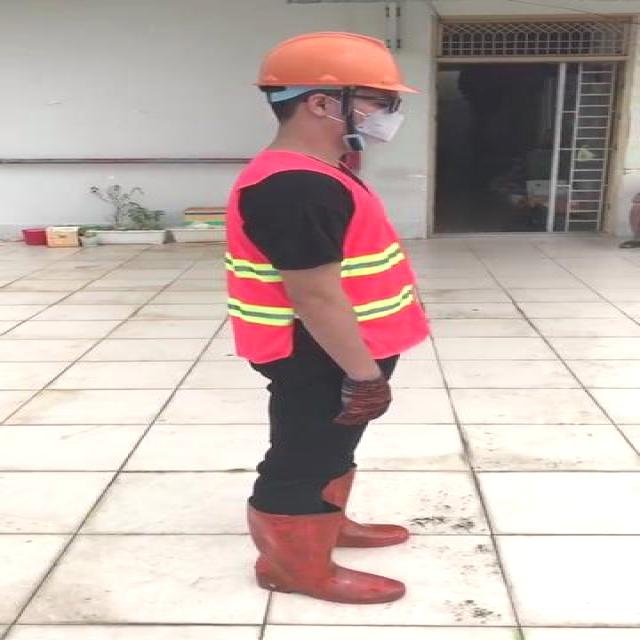boots: (245, 501, 406, 606), (324, 469, 411, 548)
face_mask: (336, 86, 420, 148)
hand_glove: (334, 378, 395, 427)
head_helmet: (249, 29, 411, 94)
person: (202, 30, 449, 612)
vest: (224, 153, 427, 362)
